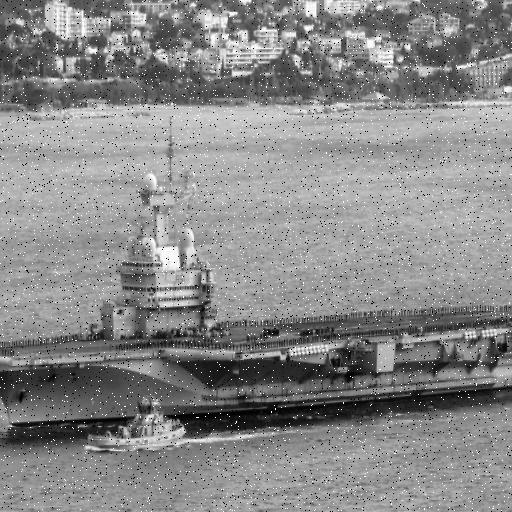Portanaves: (1, 111, 512, 435)
